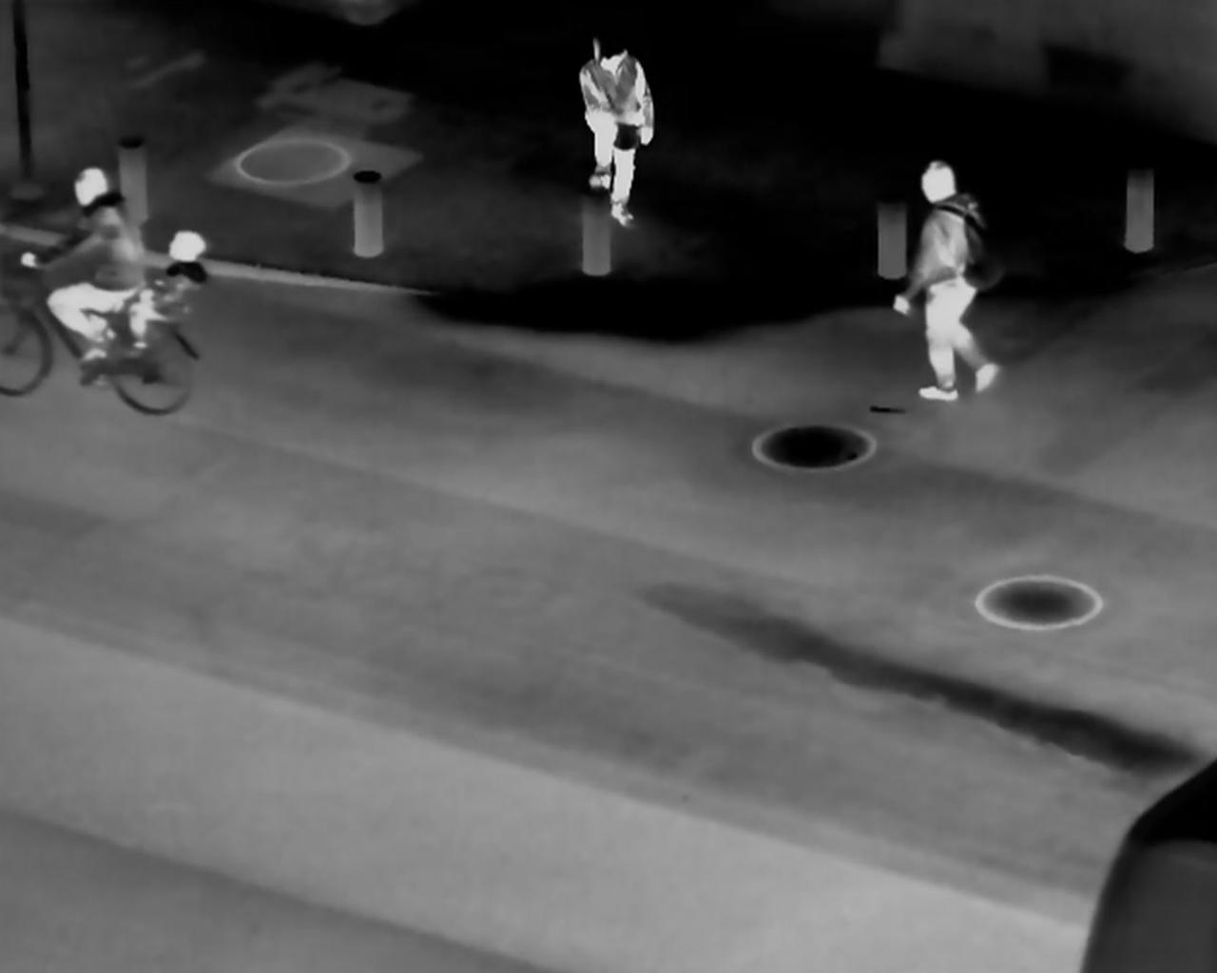person: (892, 148, 1009, 417), (33, 153, 146, 372), (573, 26, 665, 234), (129, 216, 213, 334)
